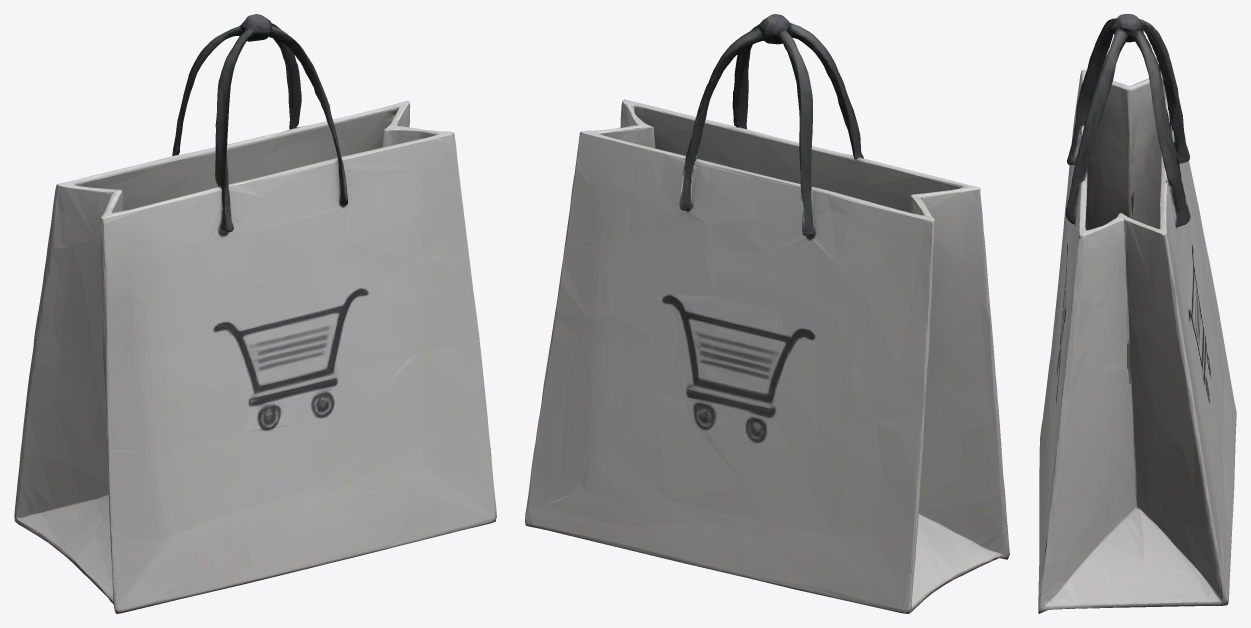
The model's file is bag_shopping_white_cart.glb.
The picture shows the model from 3 angles, left to right: view 1: azimuth 30°, elevation 25°; view 2: azimuth 150°, elevation 25°; view 3: azimuth 270°, elevation 25°; orthographic projection. The views are drawn at different scales.
Parts seen in each view (by area): view 1: geometry_0; view 2: geometry_0; view 3: geometry_0.
Boxes of the visible parts, x1,y1,x2,y2 form: geometry_0: (14,14,496,613); geometry_0: (525,14,1009,613); geometry_0: (1038,14,1236,613).
Size of the model in its own units: 0.7671 by 0.9979 by 0.3535.
1 material, 1 textured.
